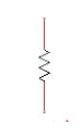resistor: (31, 40, 51, 88)
